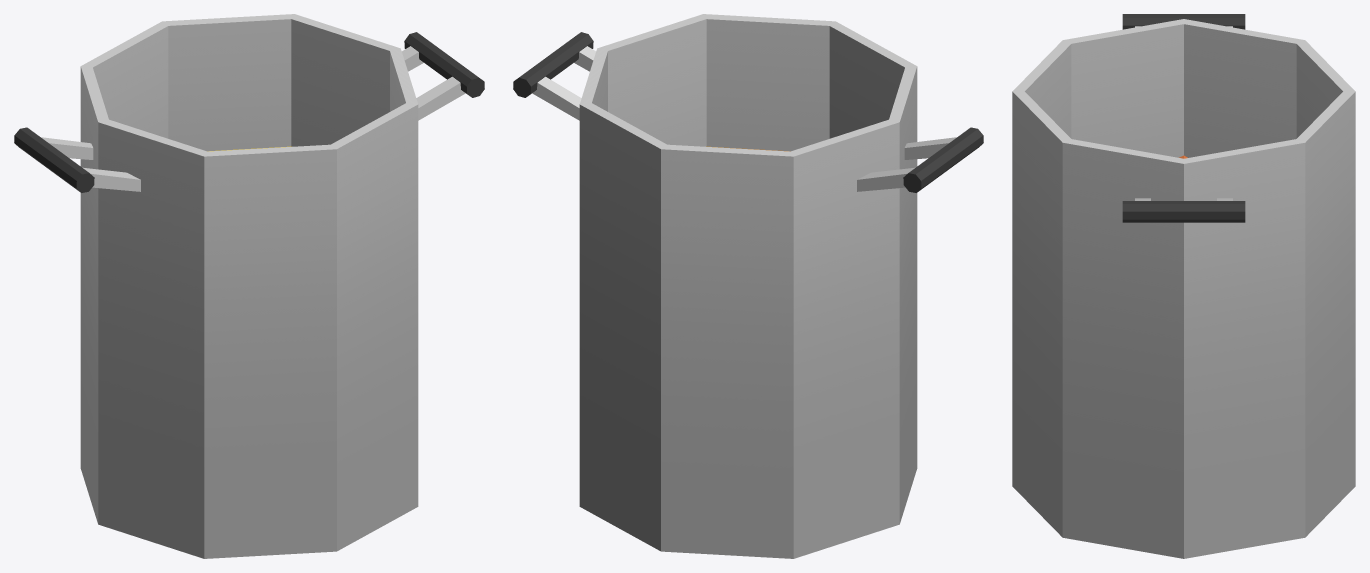
Rendered from Stewpot.fbx.
3 renders of one model, left to right at view 1: azimuth 30°, elevation 25°; view 2: azimuth 150°, elevation 25°; view 3: azimuth 270°, elevation 25°, orthographic.
Parts seen in each view (by area): view 1: Stewpot; view 2: Stewpot; view 3: Stewpot.
Boxes of the visible parts, x1=… form: Stewpot: x1=14, y1=14, x2=484, y2=558; Stewpot: x1=513, y1=14, x2=983, y2=558; Stewpot: x1=1012, y1=14, x2=1355, y2=558.
Bounding box in the file's own units: 0.5722 × 0.5388 × 0.4241.
Materials: 1 (1 with a texture image).
